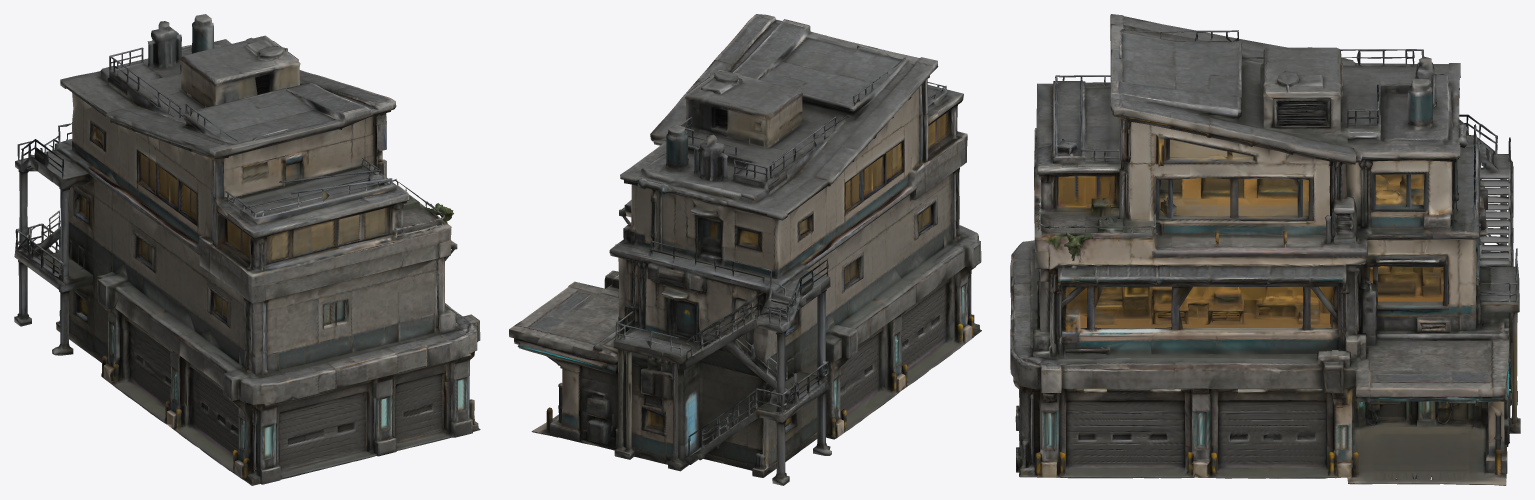
File: kairox-player-garage.glb
3 views of the same model, side by side, from view 1: azimuth 30°, elevation 25°; view 2: azimuth 150°, elevation 25°; view 3: azimuth 270°, elevation 25° (orthographic). The views are drawn at different scales.
Visible parts, largest first — view 1: kairox-player-garage; view 2: kairox-player-garage; view 3: kairox-player-garage.
Part boxes in pixels (x1=…): kairox-player-garage: x1=14, y1=14, x2=480, y2=485; kairox-player-garage: x1=509, y1=14, x2=981, y2=485; kairox-player-garage: x1=1010, y1=14, x2=1520, y2=485.
Bounding box in the file's own units: 13.27 × 14 × 18.26.
1 material, 1 textured.
